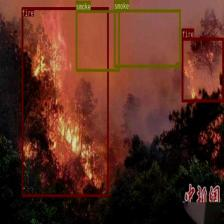fire: (22, 7, 108, 196), (182, 37, 224, 102)
smoke: (114, 9, 180, 67), (76, 10, 120, 70)
